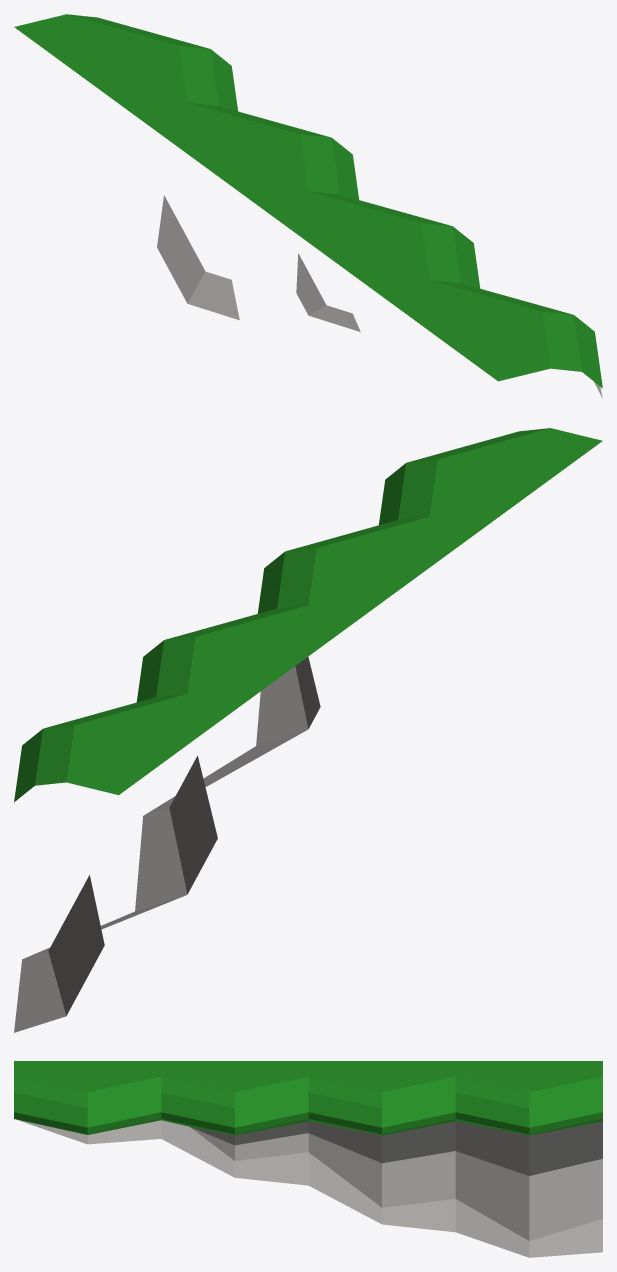
File: Cliff_Terrain_Hill_Base_Top_Joined_Gentle.glb
3 views of the same model, one above another, from view 1: azimuth 30°, elevation 25°; view 2: azimuth 150°, elevation 25°; view 3: azimuth 270°, elevation 25° (orthographic). The views are drawn at different scales.
Visible parts, largest first — view 1: Cliff_Terrain_Hill_Base_Top_Joined_Gentle; view 2: Cliff_Terrain_Hill_Base_Top_Joined_Gentle; view 3: Cliff_Terrain_Hill_Base_Top_Joined_Gentle.
Boxes of the visible parts, <box> form: Cliff_Terrain_Hill_Base_Top_Joined_Gentle: <box>14,14,602,398</box>; Cliff_Terrain_Hill_Base_Top_Joined_Gentle: <box>14,428,602,1032</box>; Cliff_Terrain_Hill_Base_Top_Joined_Gentle: <box>14,1061,602,1257</box>.
Size of the model in its own units: 0.75 by 1.2 by 4.
